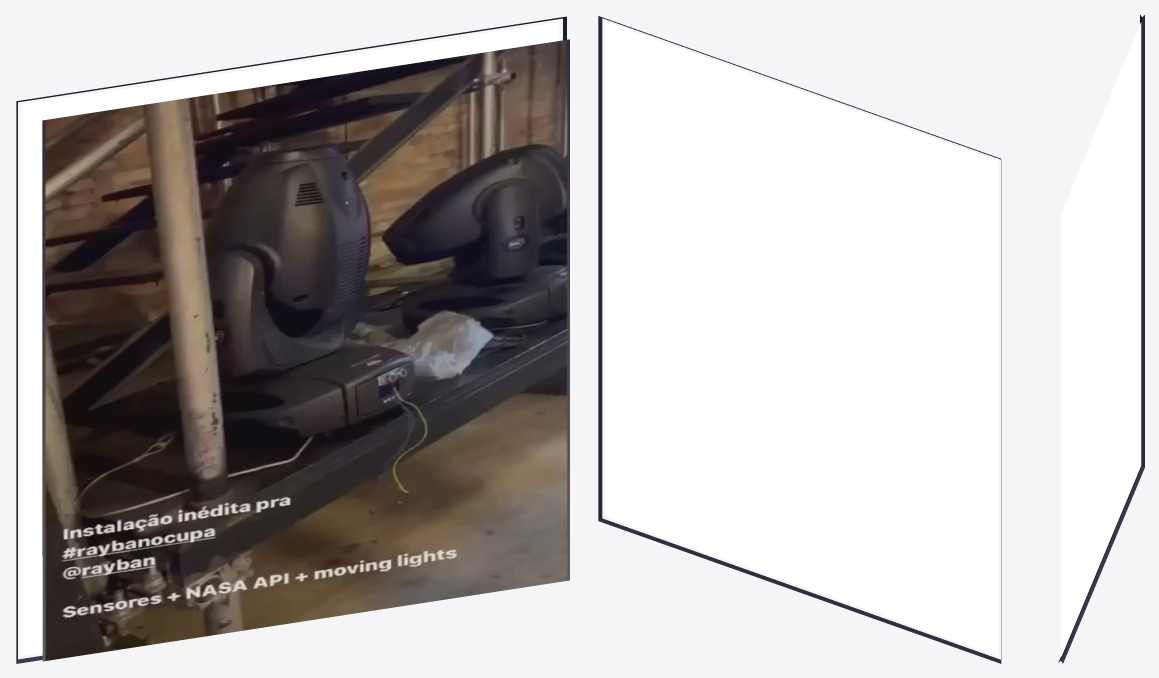
The model's file is TesteCelular.glb.
3 renders of one model, left to right at view 1: azimuth 30°, elevation 25°; view 2: azimuth 150°, elevation 25°; view 3: azimuth 270°, elevation 25°, orthographic. The views are drawn at different scales.
Visible parts, largest first — view 1: Plane.001, Plane.003, Plane.004; view 2: Plane.003, Plane.004; view 3: Plane.003, Plane.004.
Boxes of the visible parts, x1,y1,x2,y2 form: Plane.001: (42, 39, 569, 661); Plane.003: (21, 22, 559, 655); Plane.004: (16, 16, 566, 663); Plane.003: (605, 22, 998, 655); Plane.004: (598, 16, 1001, 663); Plane.003: (1061, 22, 1141, 656); Plane.004: (1058, 14, 1144, 663).
Bounding box in the file's own units: 1.74 × 1.87 × 0.4041.
3 materials, 1 textured.
